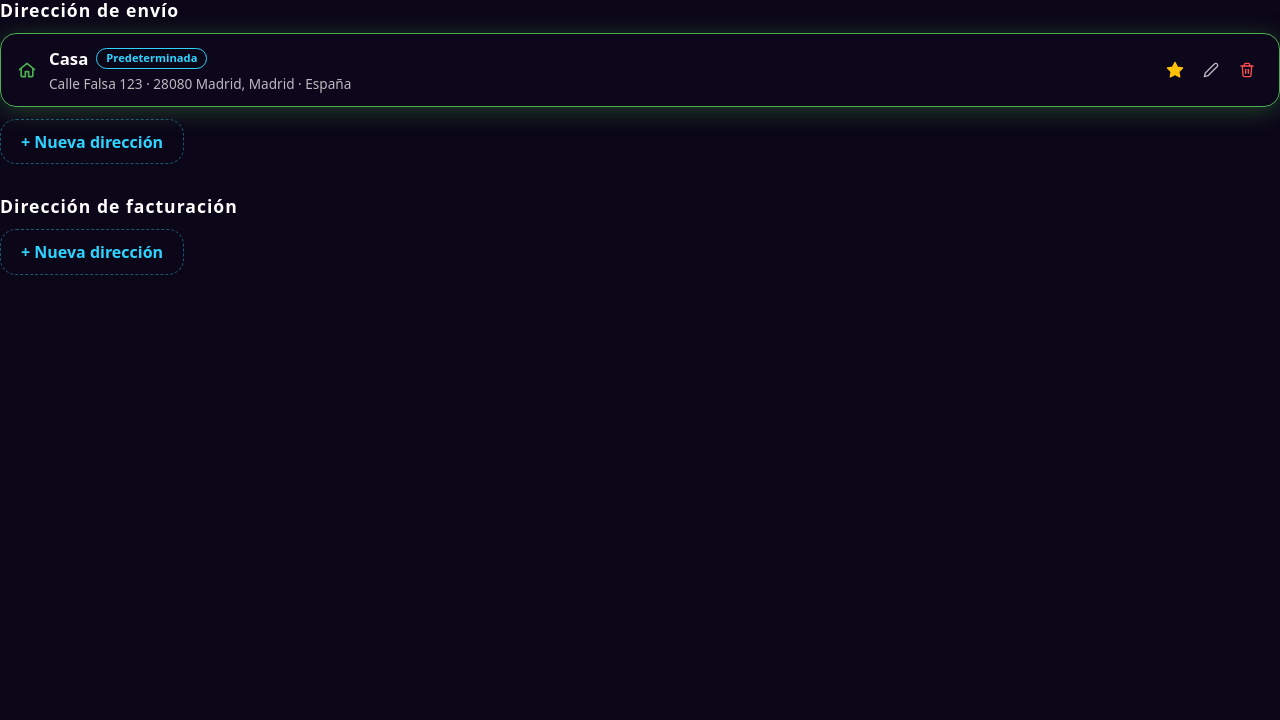
Scenario: DireccionesPanel › al editar, precarga el formulario con los datos de la dirección seleccionada
Expected: the text "Casa" is shown, [49,47,88,70]
Click the button named "modificar dirección": (1211, 70) [1195,54,1227,86]
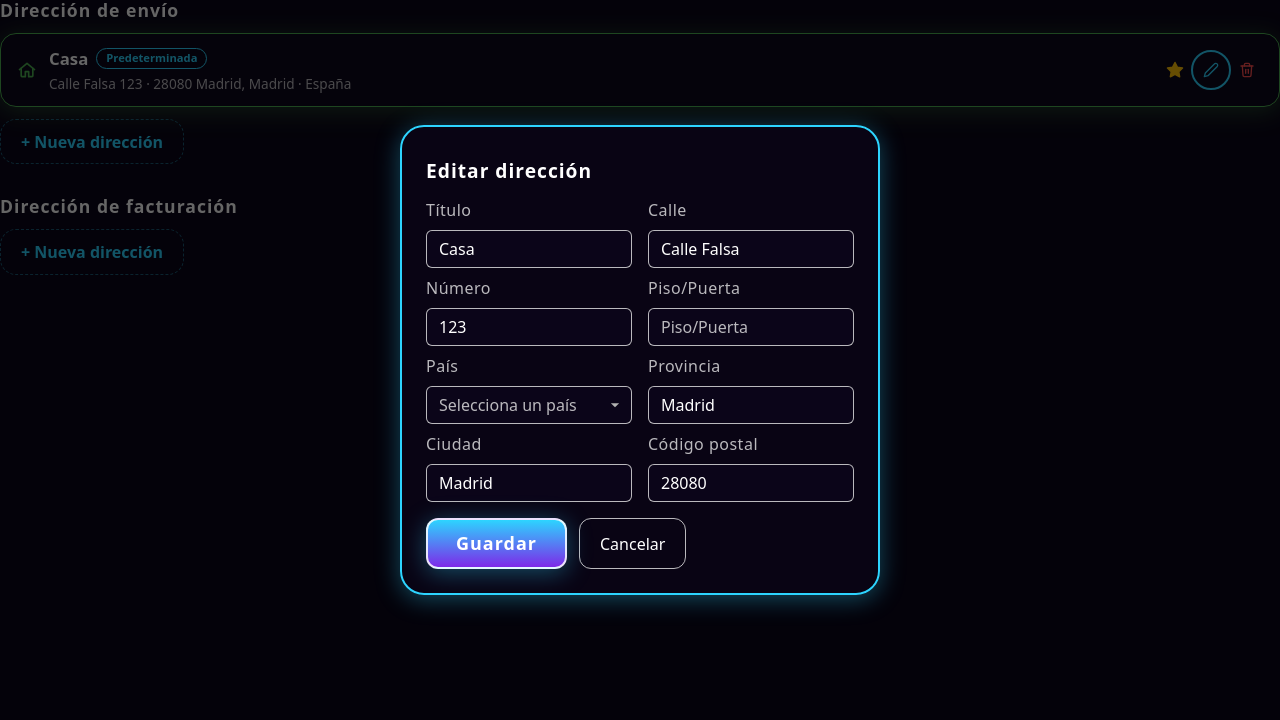
Expected: the heading "Editar dirección" is shown, [426,159,592,182]
Expected: the field showing "Casa" is shown, [426,230,632,268]
